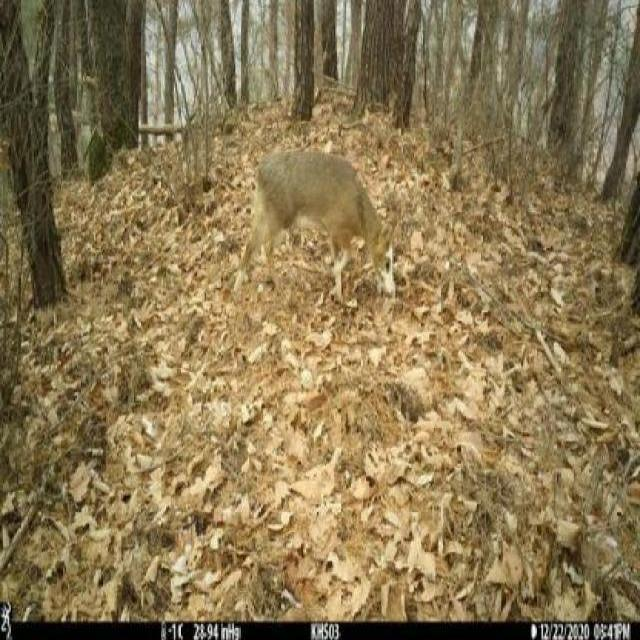deer: (224, 139, 406, 336)
